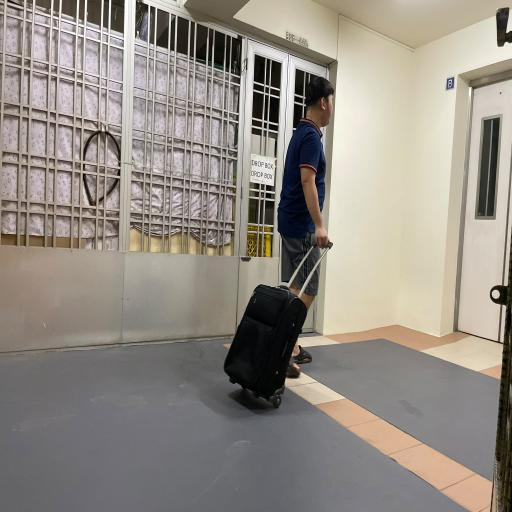person_right: (220, 74, 340, 436)
